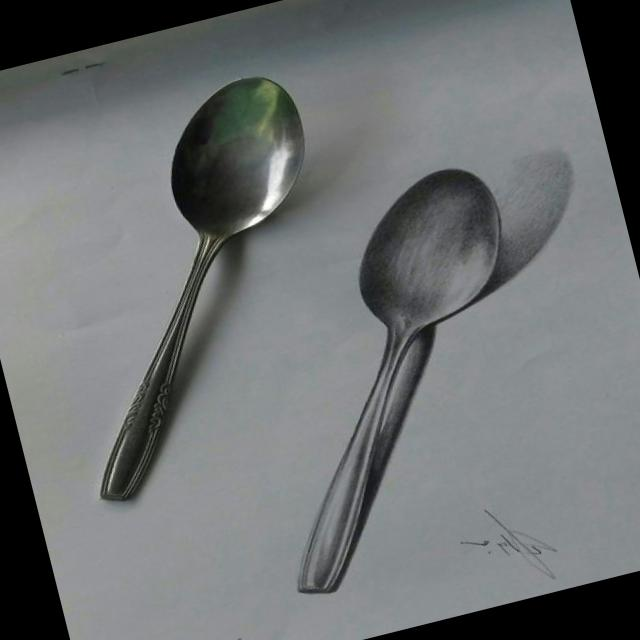spoon: (11, 36, 378, 514)
